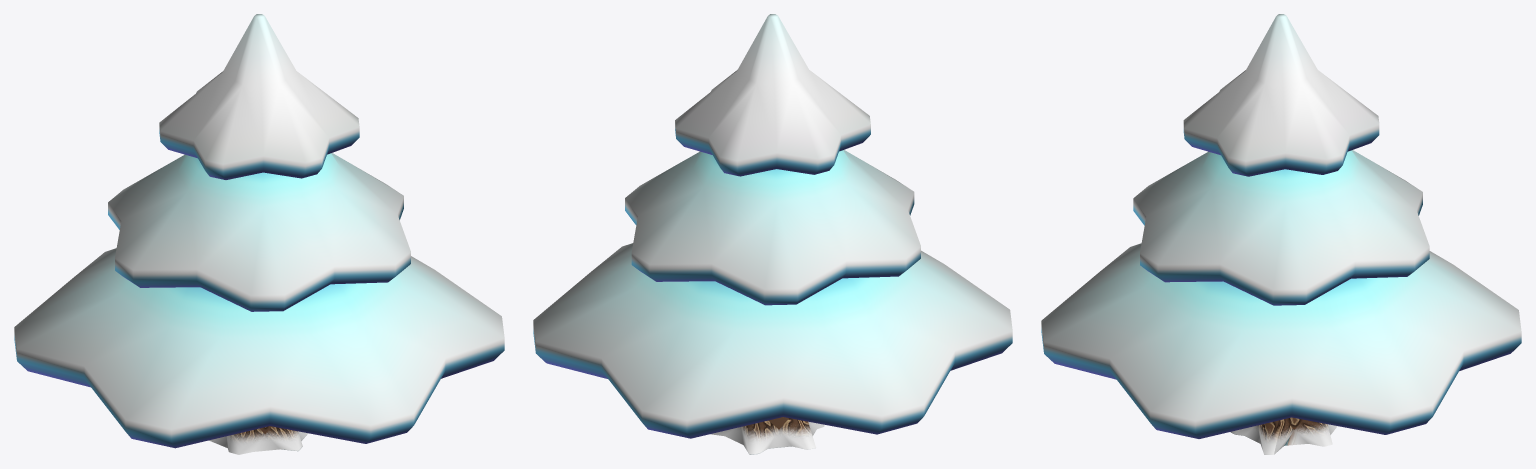
Rendered from Pinetree_03.fbx.
The picture shows the model from 3 angles, left to right: view 1: azimuth 30°, elevation 25°; view 2: azimuth 150°, elevation 25°; view 3: azimuth 270°, elevation 25°; orthographic projection. The views are drawn at different scales.
Visible parts, largest first — view 1: Pinetree_03; view 2: Pinetree_03; view 3: Pinetree_03.
Part boxes in pixels (box(x1,y1,x2,y2)): Pinetree_03: box(14, 14, 504, 454); Pinetree_03: box(533, 14, 1012, 454); Pinetree_03: box(1041, 14, 1521, 454).
Size of the model in its own units: 194 by 195 by 207.
